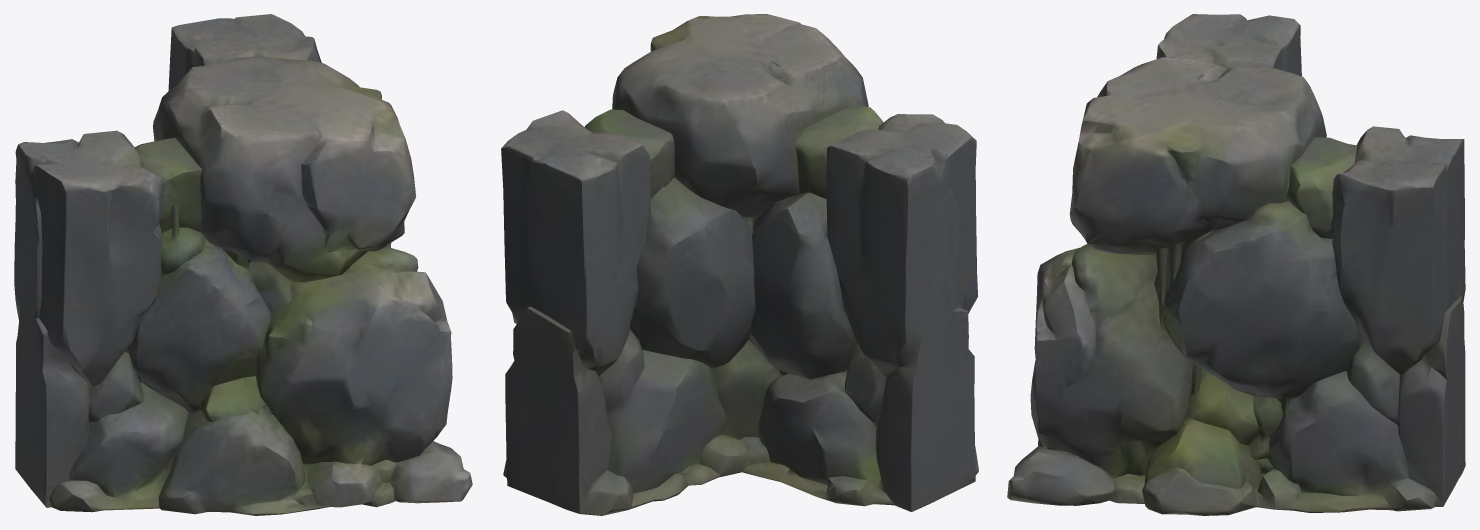
The model's file is cueva_pared_6000.glb.
3 renders of one model, left to right at view 1: azimuth 30°, elevation 25°; view 2: azimuth 150°, elevation 25°; view 3: azimuth 270°, elevation 25°, orthographic. The views are drawn at different scales.
Visible parts, largest first — view 1: cueva_pared_malla; view 2: cueva_pared_malla; view 3: cueva_pared_malla.
Part boxes in pixels (<box>): cueva_pared_malla: <box>14,14,472,515</box>; cueva_pared_malla: <box>501,14,978,515</box>; cueva_pared_malla: <box>1007,14,1465,515</box>.
Size of the model in its own units: 0.3358 by 0.3221 by 0.3697.
Materials: 1 (1 with a texture image).
